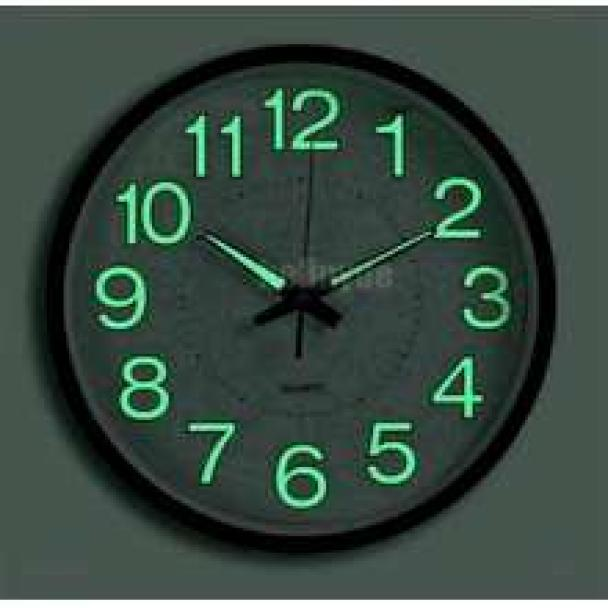Jam: (51, 49, 560, 552)
